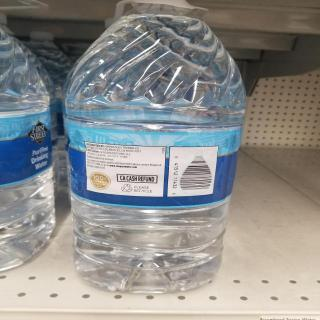Plastic-bottle: (59, 1, 249, 295), (1, 17, 63, 280)
